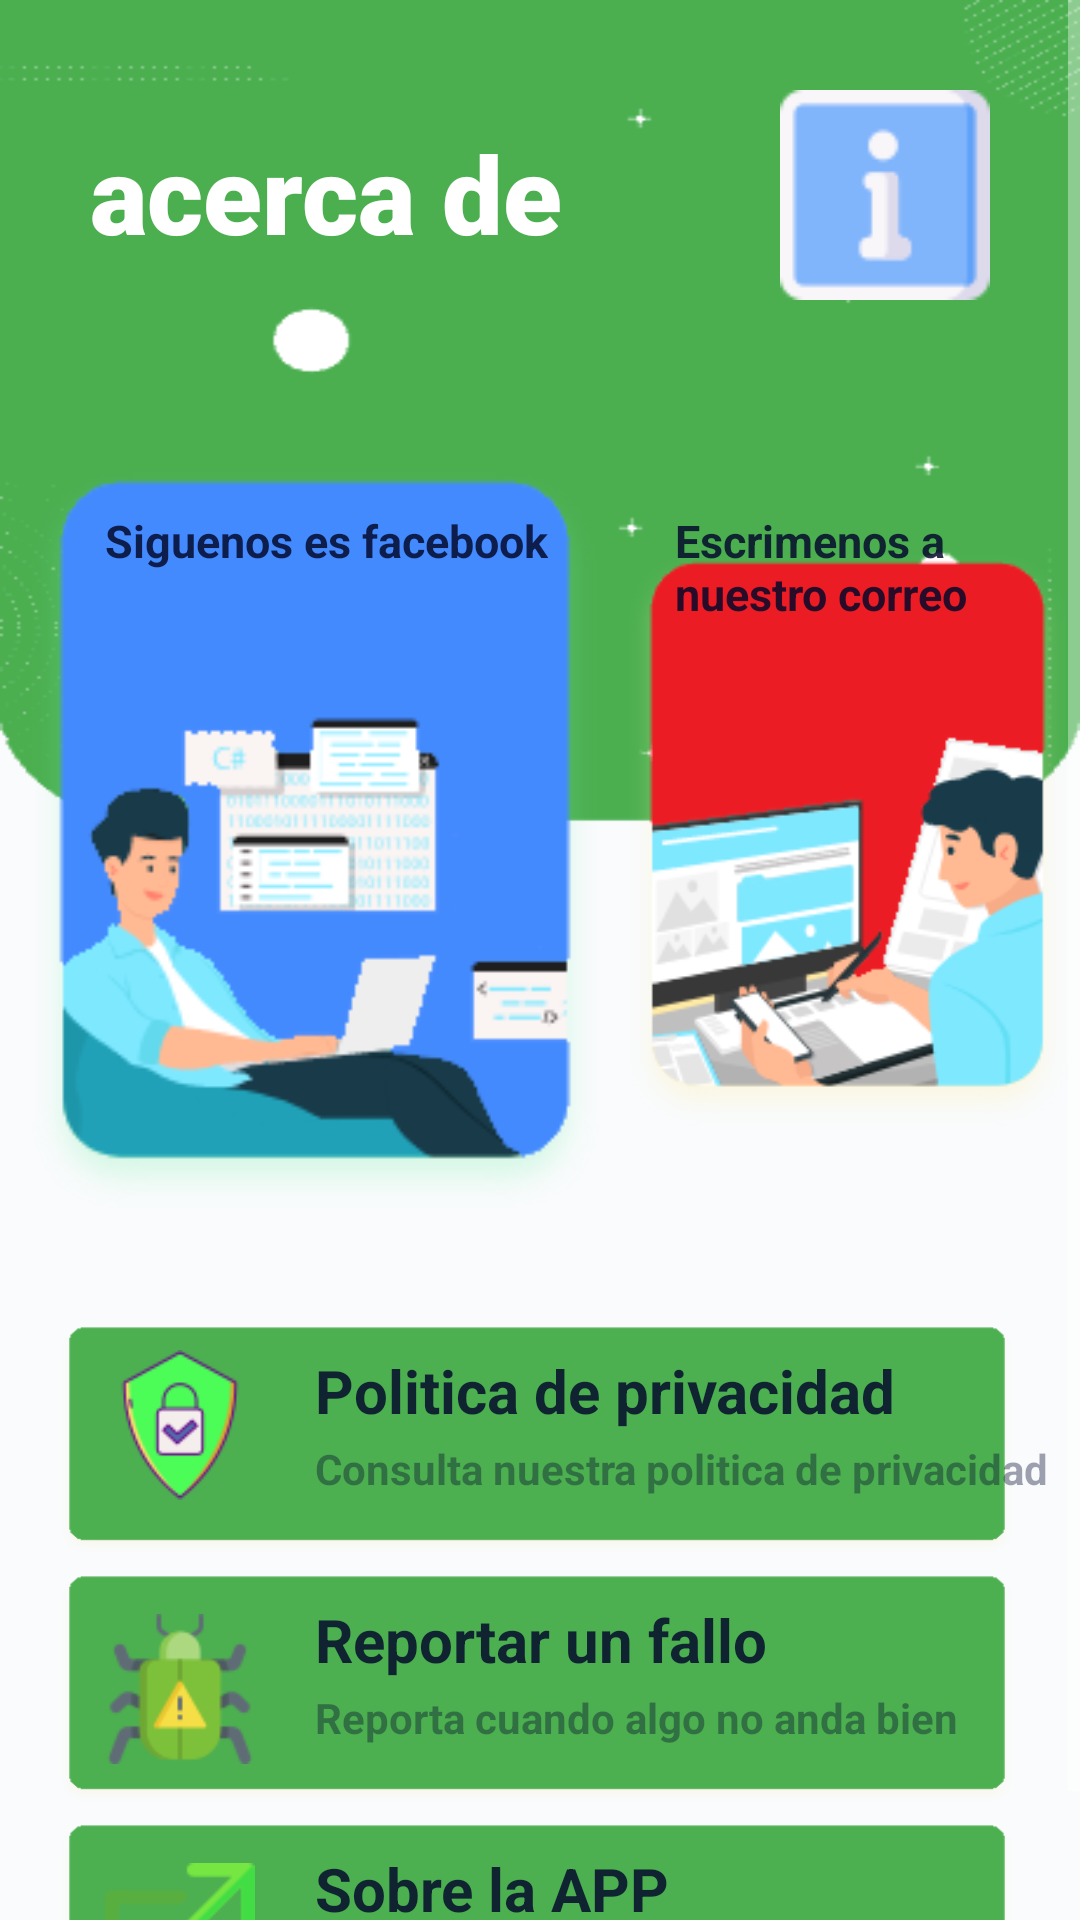

Icons on this 1080x1920 Android screen, each with its box as rect(x1, y1, x2, y2):
acercade: rect(780, 90, 990, 300)
bug: rect(109, 1614, 251, 1764)
